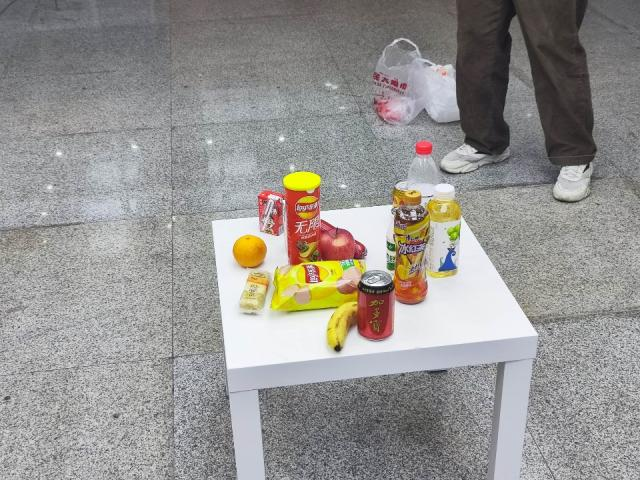Canned_drinks: (357, 270, 398, 341)
bottle: (396, 190, 428, 301), (428, 183, 461, 277)
cylinder: (284, 171, 320, 262)
drink_box: (252, 186, 283, 239)
